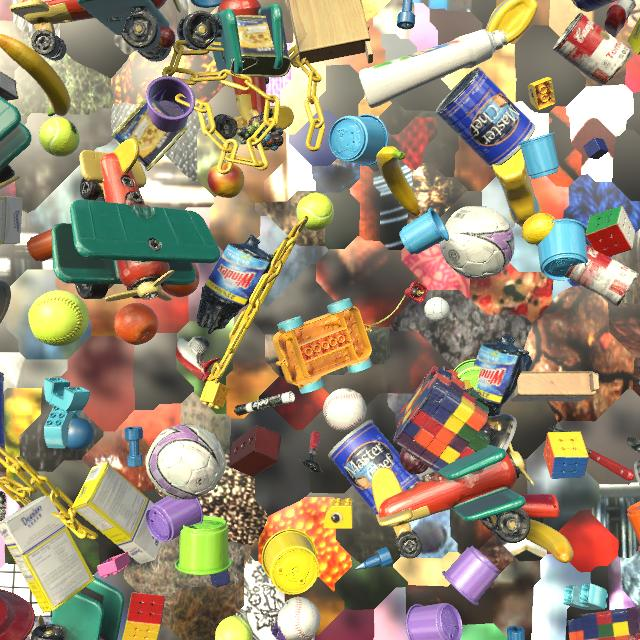ycb_002_master_chef_can: (435, 67, 535, 169), (328, 420, 422, 514), (572, 0, 617, 12), (0, 372, 6, 451)
ycb_004_sugar_box: (0, 496, 95, 613), (72, 462, 162, 564), (0, 196, 23, 244), (628, 17, 640, 55)
ycb_005_tomato_soup_can: (553, 12, 631, 85), (564, 244, 639, 306)
ycb_006_mustard_bottle: (492, 149, 541, 227), (485, 0, 538, 46)
ycb_008_pudding_box: (0, 71, 18, 101)
ycb_010_potted_meat_can: (111, 97, 187, 171), (230, 15, 292, 77)
ycb_011_banana: (0, 34, 71, 117), (376, 146, 421, 216), (525, 519, 574, 563)
ycb_014_lemon: (521, 213, 556, 245)
ycb_015_peach: (207, 163, 244, 198)
ycb_017_orange: (114, 303, 159, 345), (161, 263, 200, 297)
ycb_018_plum: (400, 448, 429, 474)
